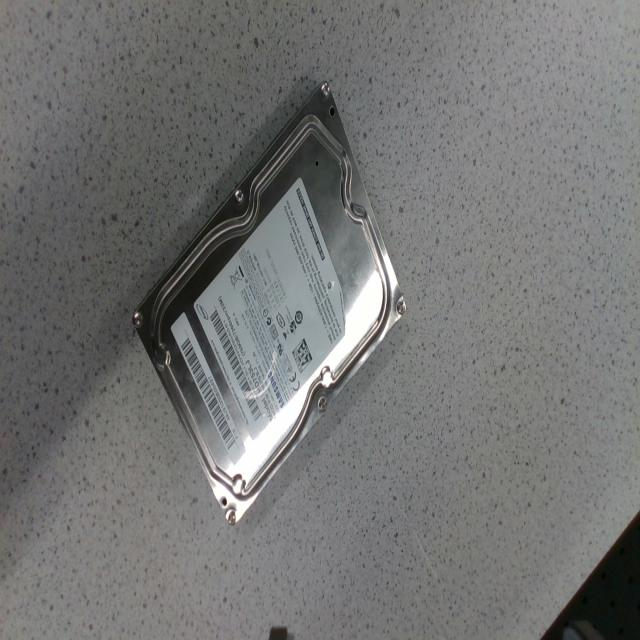label: (193, 175, 343, 442), (174, 313, 240, 453)
lid: (132, 82, 406, 524)
screw: (132, 308, 143, 332), (396, 297, 406, 316), (320, 81, 330, 98), (234, 188, 244, 204), (318, 396, 327, 413), (226, 509, 236, 524)
